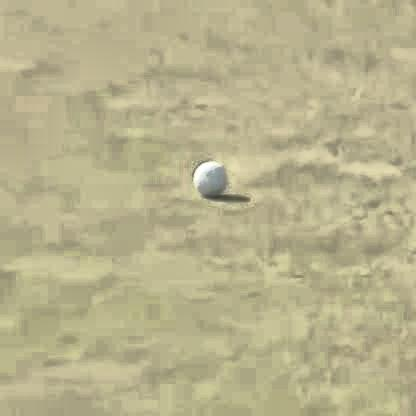golfball: (189, 151, 225, 193)
